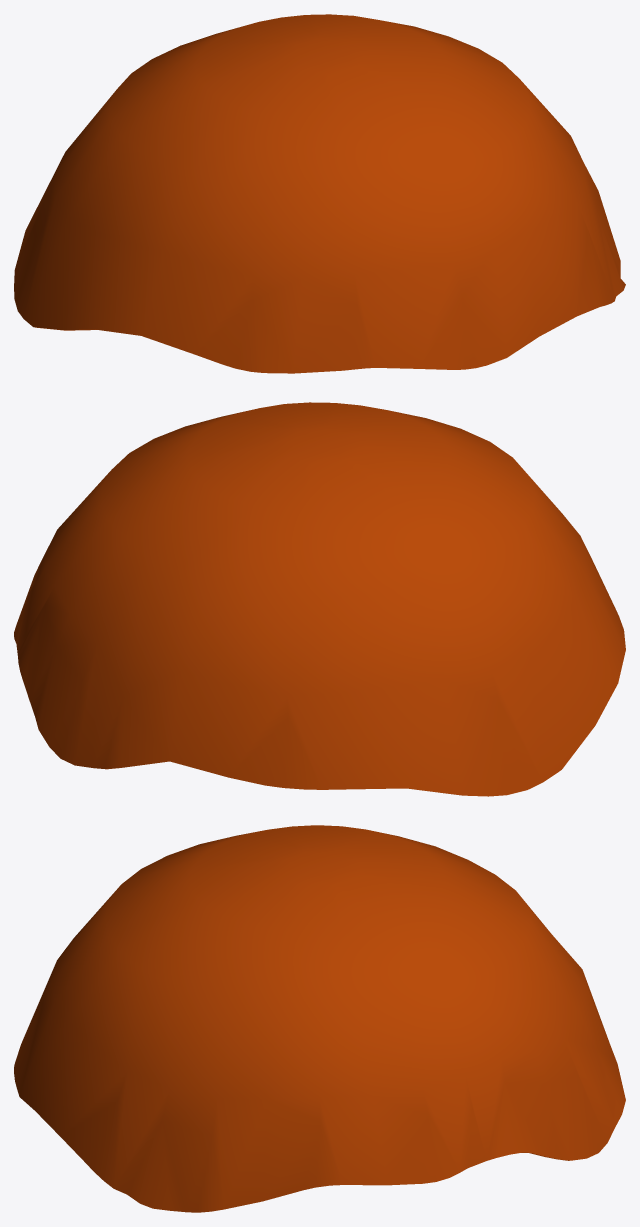
The model's file is Ice Cream Melted Chocolate Brown.fbx.
The picture shows the model from 3 angles, top to bottom: view 1: azimuth 30°, elevation 25°; view 2: azimuth 150°, elevation 25°; view 3: azimuth 270°, elevation 25°; orthographic projection. The views are drawn at different scales.
Visible parts, largest first — view 1: Ice Cream Melted Chocolate Brown; view 2: Ice Cream Melted Chocolate Brown; view 3: Ice Cream Melted Chocolate Brown.
Boxes of the visible parts, bbox=[...] form: Ice Cream Melted Chocolate Brown: bbox=[14, 14, 625, 373]; Ice Cream Melted Chocolate Brown: bbox=[14, 402, 625, 796]; Ice Cream Melted Chocolate Brown: bbox=[14, 825, 625, 1212].
Size of the model in its own units: 0.4696 by 0.2058 by 0.4726.
